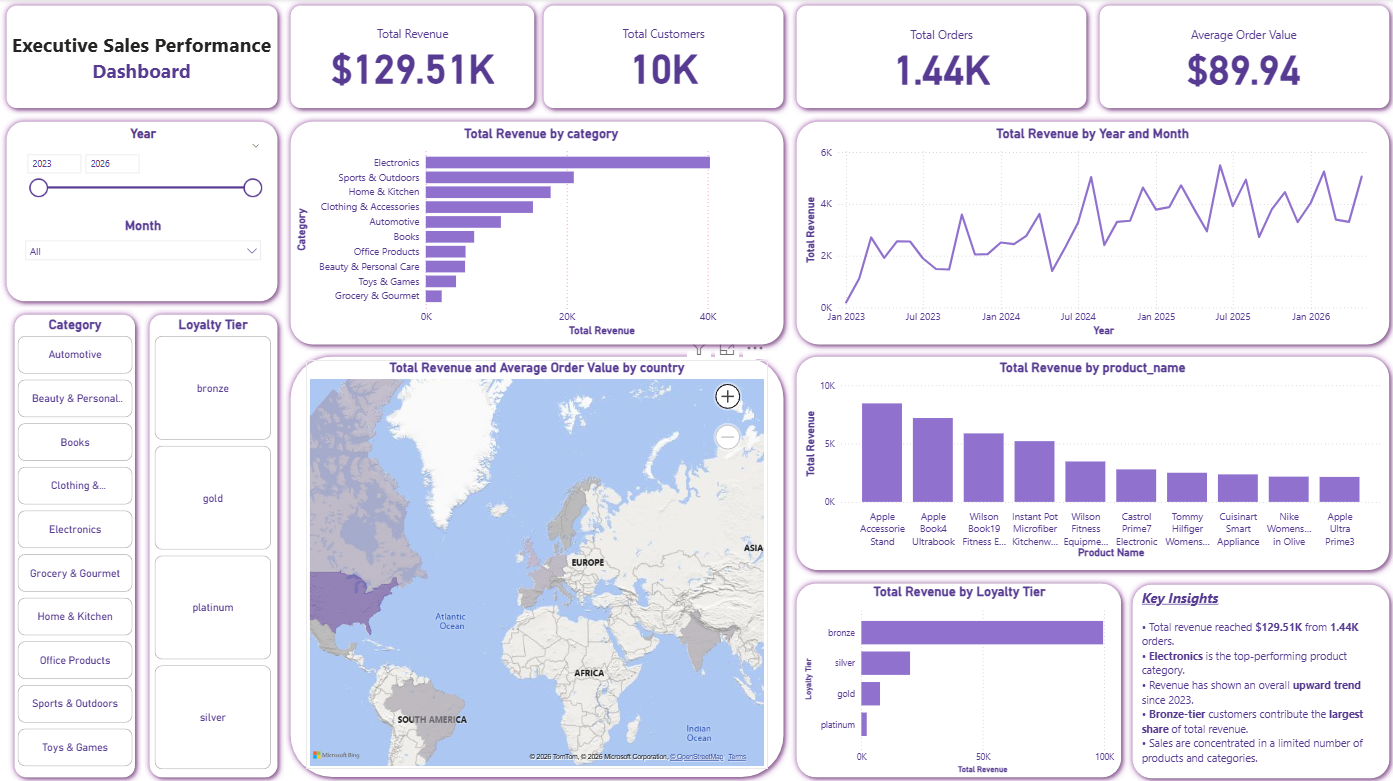

Layout of this report page (visuals, bound fields, positions):
{"tool":"powerbi","page":{"name":"Executive Overview","canvas":[1920,1080],"ordinal":0},"visuals":[{"type":"shape","box":[1548.7,795.7,371.3,284.6],"z":0},{"type":"shape","box":[196.7,425.7,194.1,654.7],"z":1000},{"type":"shape","box":[11.6,424.4,183.7,654.7],"z":2000},{"type":"shape","box":[0,159.1,390.7,265.2],"z":3000},{"type":"shape","box":[0,0,390.7,159.1],"z":4000},{"type":"shape","box":[390.7,482.6,696.1,596.4],"z":5000},{"type":"shape","box":[1086.8,794.4,464.5,284.6],"z":6000},{"type":"shape","box":[1086.8,482.6,833.2,311.8],"z":7000},{"type":"shape","box":[1086.8,159.1,833.2,324.7],"z":8000},{"type":"shape","box":[1503.4,0,416.6,159.1],"z":9000},{"type":"shape","box":[1086.8,0,416.6,159.1],"z":10000},{"type":"shape","box":[738.8,0,348,159.1],"z":11000},{"type":"shape","box":[390.7,0,353.2,159.1],"z":12000},{"type":"cardVisual","fields":{"Data":["public purchases.Total Revenue"]},"box":[414,19.4,307.9,119],"z":13000},{"type":"cardVisual","fields":{"Data":["public purchases.Total Orders"]},"box":[1142.4,20.7,304,119],"z":14000},{"type":"cardVisual","fields":{"Data":["public users.Total Customers"]},"box":[759.5,19.4,307.9,119],"z":15000},{"type":"cardVisual","fields":{"Data":["public users.Average Order Value"]},"box":[1560.3,20.7,302.7,119],"z":16000},{"type":"lineChart","fields":{"Category":["public purchases.order_date.Variation.Date Hierarchy.Year","public purchases.order_date.Variation.Date Hierarchy.Month"],"Y":["public purchases.Total Revenue"]},"box":[1102.3,174.7,802.2,293.7],"z":17000},{"type":"filledMap","fields":{"Category":["public users.country"]},"box":[420.5,496.8,635.3,562.8],"z":18000},{"type":"columnChart","fields":{"Category":["public products.product_name"],"Y":["public purchases.Total Revenue"]},"box":[1102.3,496.8,802.2,278.2],"z":19000},{"type":"clusteredBarChart","title":"Total Revenue by Loyalty Tier","fields":{"Category":["public users.loyalty_tier"],"Y":["public purchases.Total Revenue"]},"box":[1102.3,804.7,436,265.2],"z":20000},{"type":"slicer","title":"Year","fields":{"Values":["public purchases.order_date.Variation.Date Hierarchy.Year"]},"box":[24.6,174.7,344.2,117.7],"z":21000},{"type":"slicer","title":"Month","fields":{"Values":["public purchases.order_date.Variation.Date Hierarchy.Month"]},"box":[24.6,301.5,344.2,95.7],"z":22000},{"type":"advancedSlicerVisual","title":"Category","fields":{"Values":["public products.category"]},"box":[19.4,437.3,168.2,627.5],"z":23000},{"type":"advancedSlicerVisual","title":"Loyalty Tier","fields":{"Values":["public users.loyalty_tier"]},"box":[208.3,437.3,170.8,627.5],"z":24000},{"type":"textbox","box":[11.6,38.8,367.4,82.8],"z":25000},{"type":"shape","box":[390.7,159.1,696.1,324.7],"z":26000},{"type":"clusteredBarChart","fields":{"Category":["public products.category"],"Y":["public purchases.Total Revenue"]},"box":[401.1,174.7,685.7,293.7],"z":27000},{"type":"textbox","box":[1565.5,806,346.7,263.9],"z":28000}]}

Visuals, with their boxes in screenshot pixels (x1, y1, x2, y2), scaled from the page's 1920x1080 canvas onto the 1393x781 screenshot:
shape: x1=1124 y1=575 x2=1392 y2=780
shape: x1=143 y1=308 x2=284 y2=780
shape: x1=8 y1=307 x2=142 y2=780
shape: x1=0 y1=115 x2=283 y2=307
shape: x1=0 y1=0 x2=283 y2=115
shape: x1=283 y1=349 x2=788 y2=780
shape: x1=788 y1=574 x2=1126 y2=780
shape: x1=788 y1=349 x2=1392 y2=574
shape: x1=788 y1=115 x2=1392 y2=350
shape: x1=1091 y1=0 x2=1392 y2=115
shape: x1=788 y1=0 x2=1091 y2=115
shape: x1=536 y1=0 x2=788 y2=115
shape: x1=283 y1=0 x2=540 y2=115
cardVisual - public purchases.Total Revenue: x1=300 y1=14 x2=524 y2=100
cardVisual - public purchases.Total Orders: x1=829 y1=15 x2=1049 y2=101
cardVisual - public users.Total Customers: x1=551 y1=14 x2=774 y2=100
cardVisual - public users.Average Order Value: x1=1132 y1=15 x2=1352 y2=101
lineChart - public purchases.order_date.Variation.Date Hierarchy.Year x public purchases.order_date.Variation.Date Hierarchy.Month: x1=800 y1=126 x2=1382 y2=339
filledMap - public users.country: x1=305 y1=359 x2=766 y2=766
columnChart - public products.product_name x public purchases.Total Revenue: x1=800 y1=359 x2=1382 y2=560
"Total Revenue by Loyalty Tier" clusteredBarChart: x1=800 y1=582 x2=1116 y2=774
"Year" slicer: x1=18 y1=126 x2=268 y2=211
"Month" slicer: x1=18 y1=218 x2=268 y2=287
"Category" advancedSlicerVisual: x1=14 y1=316 x2=136 y2=770
"Loyalty Tier" advancedSlicerVisual: x1=151 y1=316 x2=275 y2=770
textbox: x1=8 y1=28 x2=275 y2=88
shape: x1=283 y1=115 x2=788 y2=350
clusteredBarChart - public products.category x public purchases.Total Revenue: x1=291 y1=126 x2=788 y2=339
textbox: x1=1136 y1=583 x2=1387 y2=774
